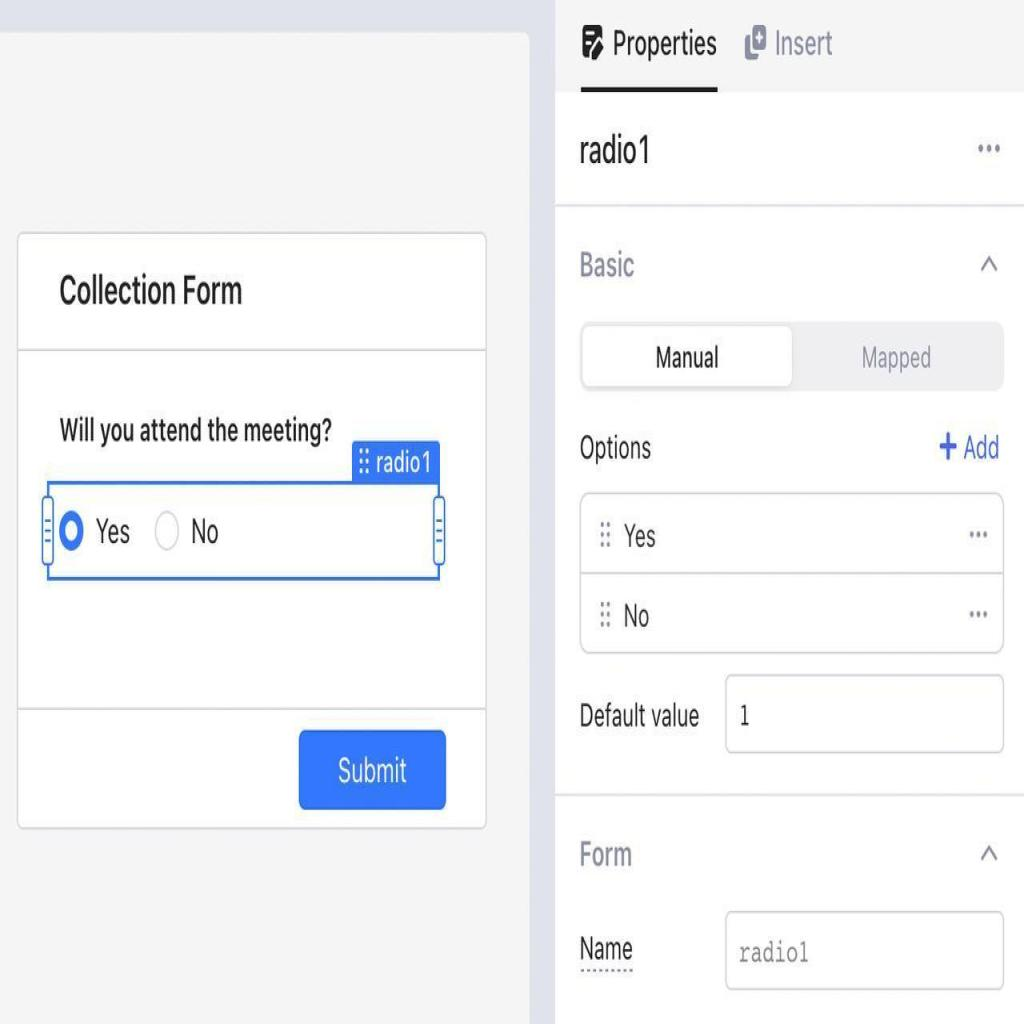button: (581, 569, 1003, 653), (581, 494, 1003, 573), (581, 326, 793, 388), (300, 730, 446, 811)
dropdown: (555, 202, 1024, 312), (557, 792, 1024, 902)
icon: (742, 21, 769, 66), (579, 21, 605, 63), (972, 134, 1006, 163), (938, 426, 958, 467)
input: (726, 912, 1002, 990), (726, 676, 1004, 750)
label: (54, 405, 334, 451), (50, 258, 246, 318), (575, 122, 666, 184), (578, 697, 706, 741), (573, 422, 665, 474), (609, 24, 720, 63), (856, 337, 938, 381), (578, 930, 644, 976), (774, 26, 836, 60), (94, 508, 132, 554), (189, 508, 224, 550), (966, 431, 1000, 463)
radio: (56, 509, 85, 552), (153, 509, 180, 552)
